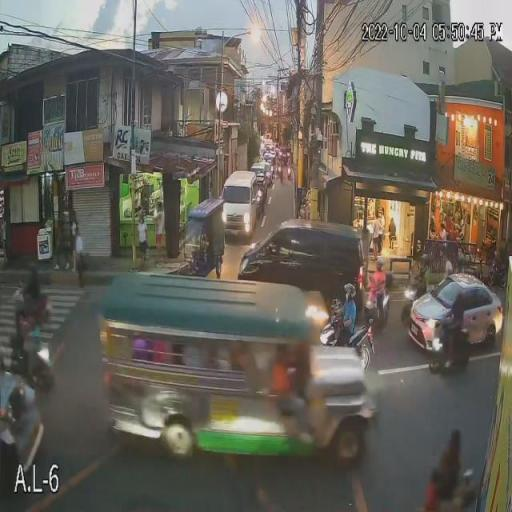helmet: (445, 286, 467, 306), (341, 283, 358, 300), (371, 257, 390, 270)
motorcycle: (317, 315, 374, 371), (427, 321, 471, 377), (362, 270, 398, 330)
rider: (440, 304, 472, 373), (334, 297, 360, 346), (366, 270, 392, 315)
